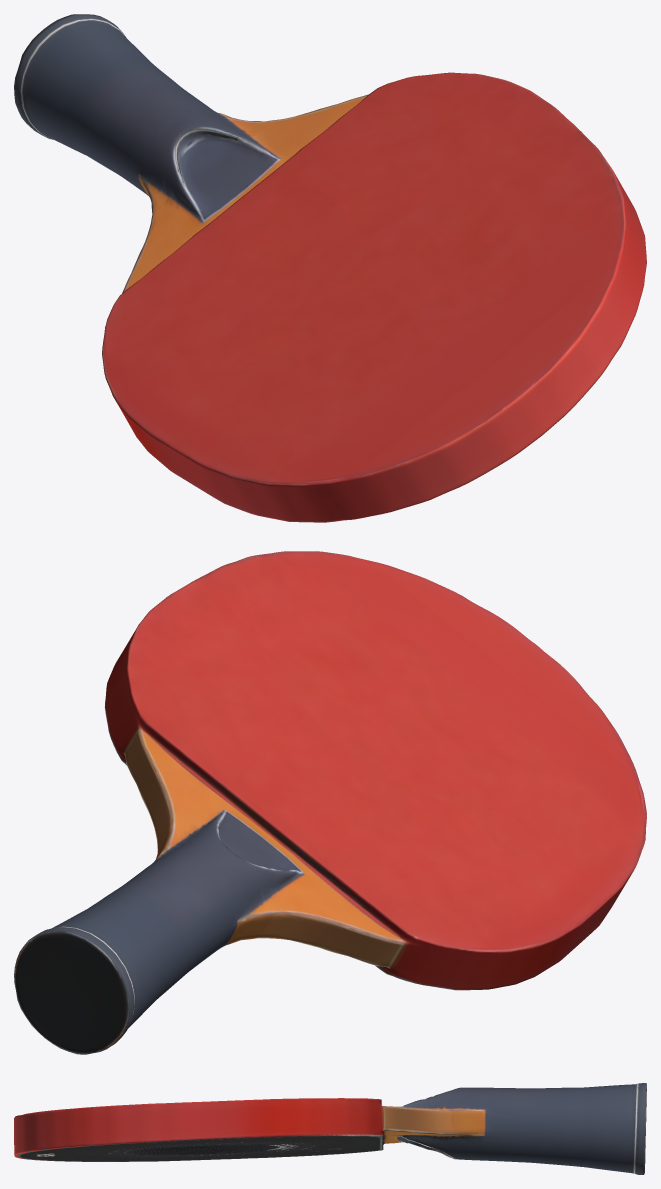
The model's file is TableTennis.fbx.
3 views of the same model, one above another, from view 1: azimuth 30°, elevation 25°; view 2: azimuth 150°, elevation 25°; view 3: azimuth 270°, elevation 25° (orthographic). The views are drawn at different scales.
Visible parts, largest first — view 1: Table Tennis Racket; view 2: Table Tennis Racket; view 3: Table Tennis Racket.
Boxes of the visible parts, x1,y1,x2,y2 form: Table Tennis Racket: [14, 14, 646, 522]; Table Tennis Racket: [14, 551, 646, 1054]; Table Tennis Racket: [14, 1083, 646, 1174].
Size of the model in its own units: 26.51 by 16.1 by 48.94.
